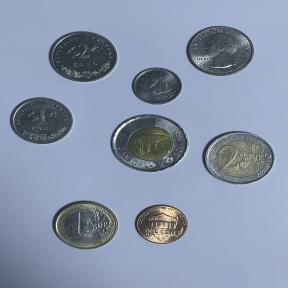coin: (107, 112, 192, 175), (199, 128, 279, 188), (44, 28, 122, 86), (184, 23, 258, 79), (50, 198, 122, 252), (132, 202, 191, 247), (128, 65, 186, 107)
